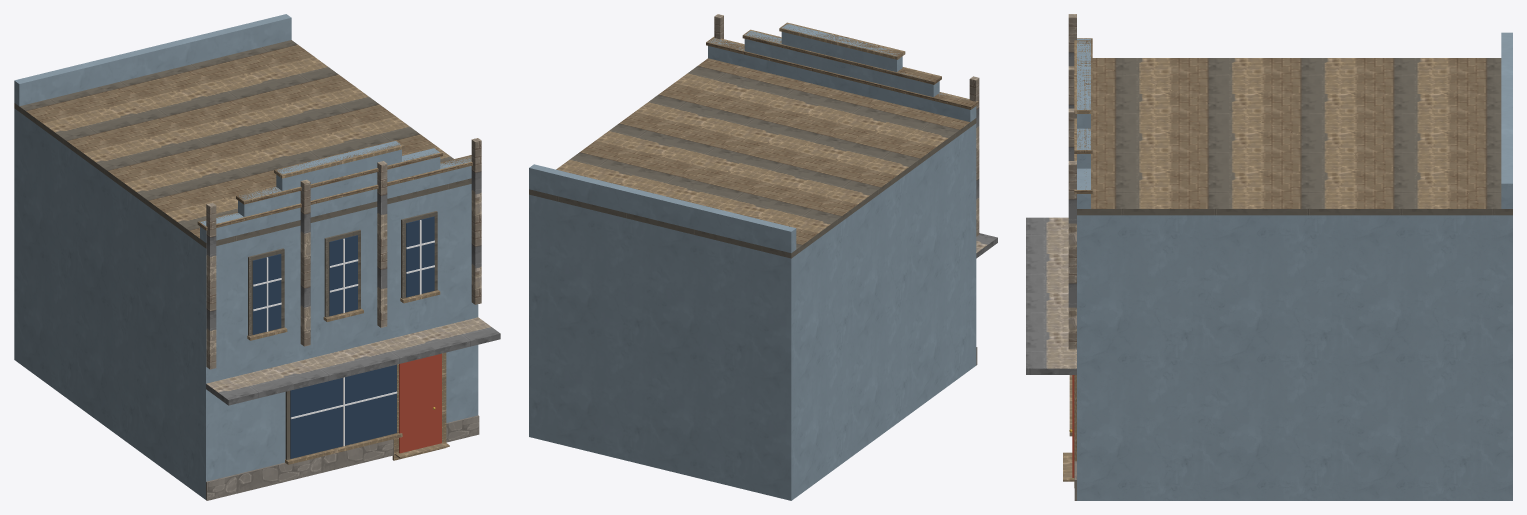
File: artdeco_w8_2.gltf
3 renders of one model, left to right at view 1: azimuth 30°, elevation 25°; view 2: azimuth 150°, elevation 25°; view 3: azimuth 270°, elevation 25°, orthographic. The views are drawn at different scales.
Parts seen in each view (by area): view 1: artdeco_w8_2; view 2: artdeco_w8_2; view 3: artdeco_w8_2.
Boxes of the visible parts, <box> form: artdeco_w8_2: <box>14,14,500,500</box>; artdeco_w8_2: <box>529,14,997,500</box>; artdeco_w8_2: <box>1026,14,1512,500</box>.
Size of what is drawn, in the model's own units: 7.78 by 8.44 by 10.5.
6 materials, 3 textured.
